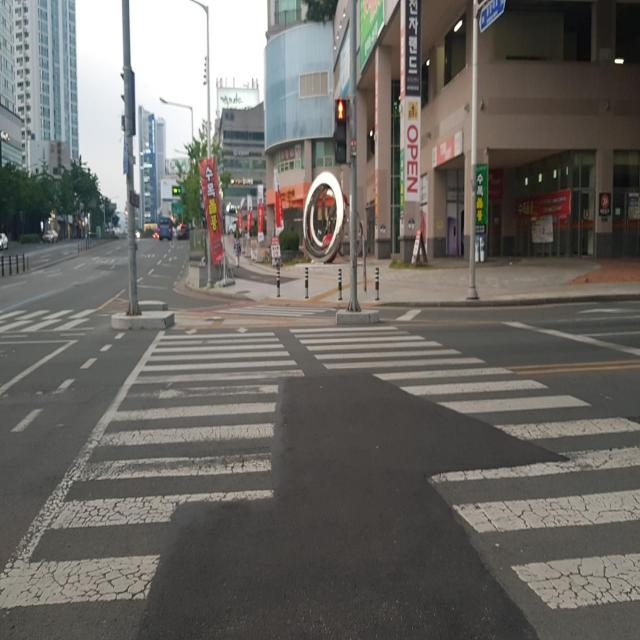빨간불: (334, 98, 348, 165)
횡단보도: (0, 334, 640, 640), (0, 302, 97, 334)
